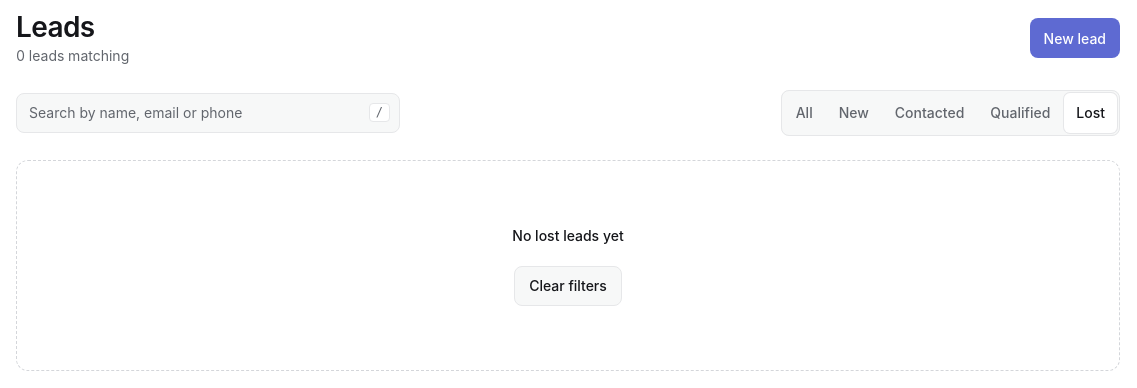
Test case: App › does not flash the empty-database state while switching away from an empty filter
Expected: the text "No lost leads yet" is shown, [512, 225, 624, 246]
Click the text "All": point(804, 113) [796, 104, 813, 121]
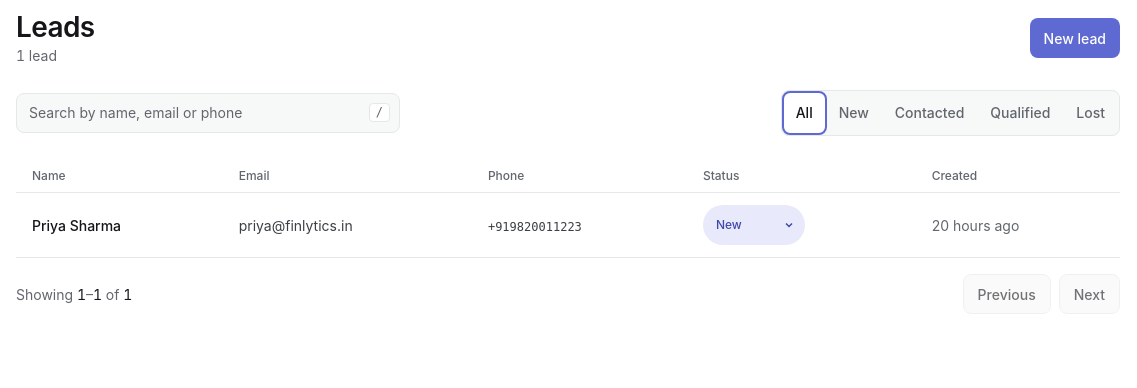
Now the cell "Priya Sharma" is shown, box [16, 193, 223, 258]
